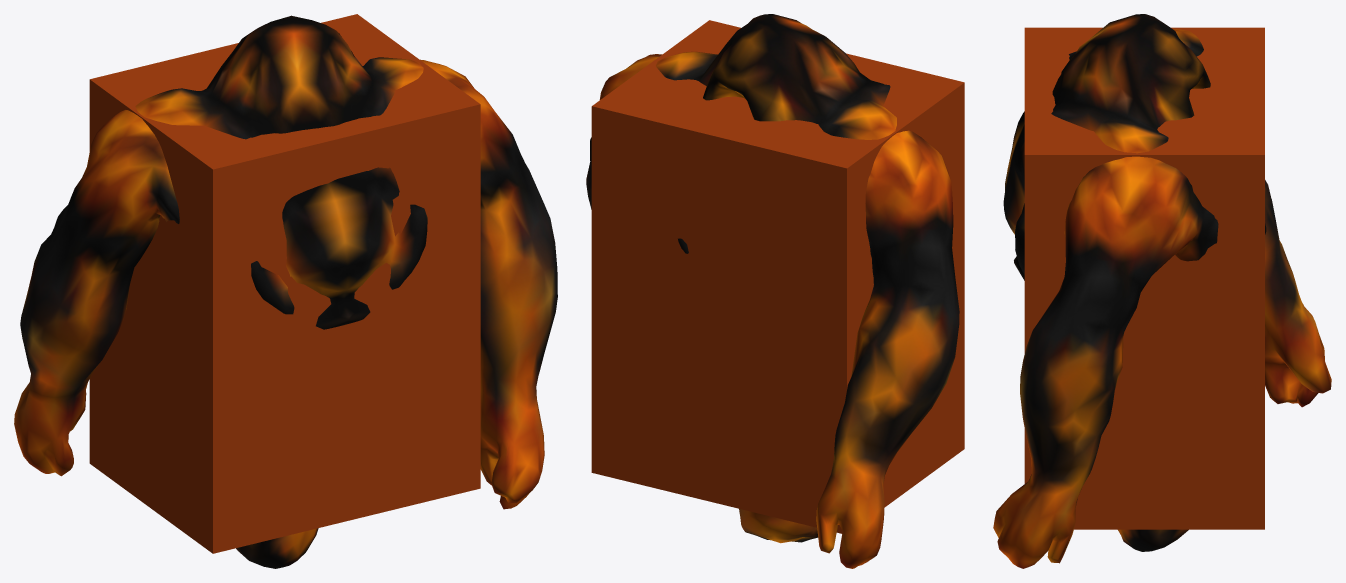
Rendered from MagmaElemental_1_000035.obj.
3 views of the same model, side by side, from view 1: azimuth 30°, elevation 25°; view 2: azimuth 150°, elevation 25°; view 3: azimuth 270°, elevation 25° (orthographic). The views are drawn at different scales.
Visible parts, largest first — view 1: Cube, Elemental_FireGolem; view 2: Cube, Elemental_FireGolem; view 3: Cube, Elemental_FireGolem.
Boxes of the visible parts, box(x1,y1,x2,y2) form: Cube: box(89, 14, 480, 553); Elemental_FireGolem: box(14, 15, 557, 568); Cube: box(591, 20, 964, 533); Elemental_FireGolem: box(586, 14, 959, 568); Cube: box(1024, 27, 1264, 529); Elemental_FireGolem: box(993, 14, 1331, 568).
Bounding box in the file's own units: 3.37 × 3.91 × 2.28.
Materials: 2 (1 with a texture image).
